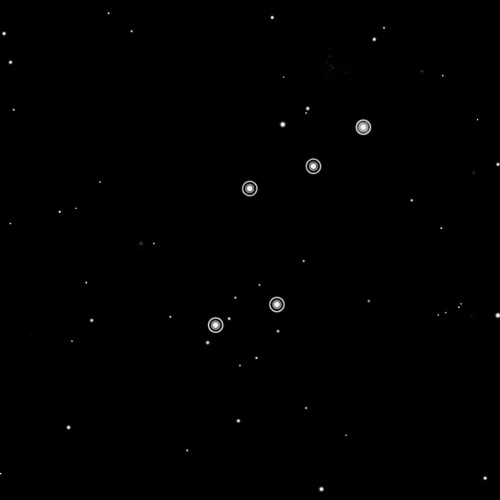lyra: (203, 113, 376, 337)
